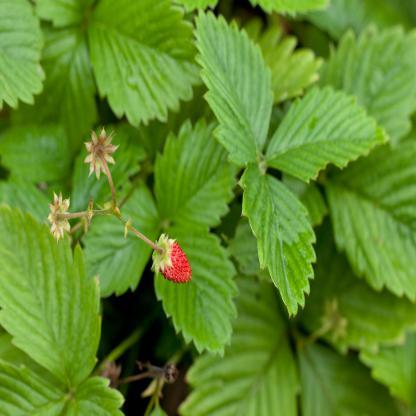Strawberry leaf: (191, 6, 281, 170), (236, 154, 322, 318), (267, 83, 389, 182)
